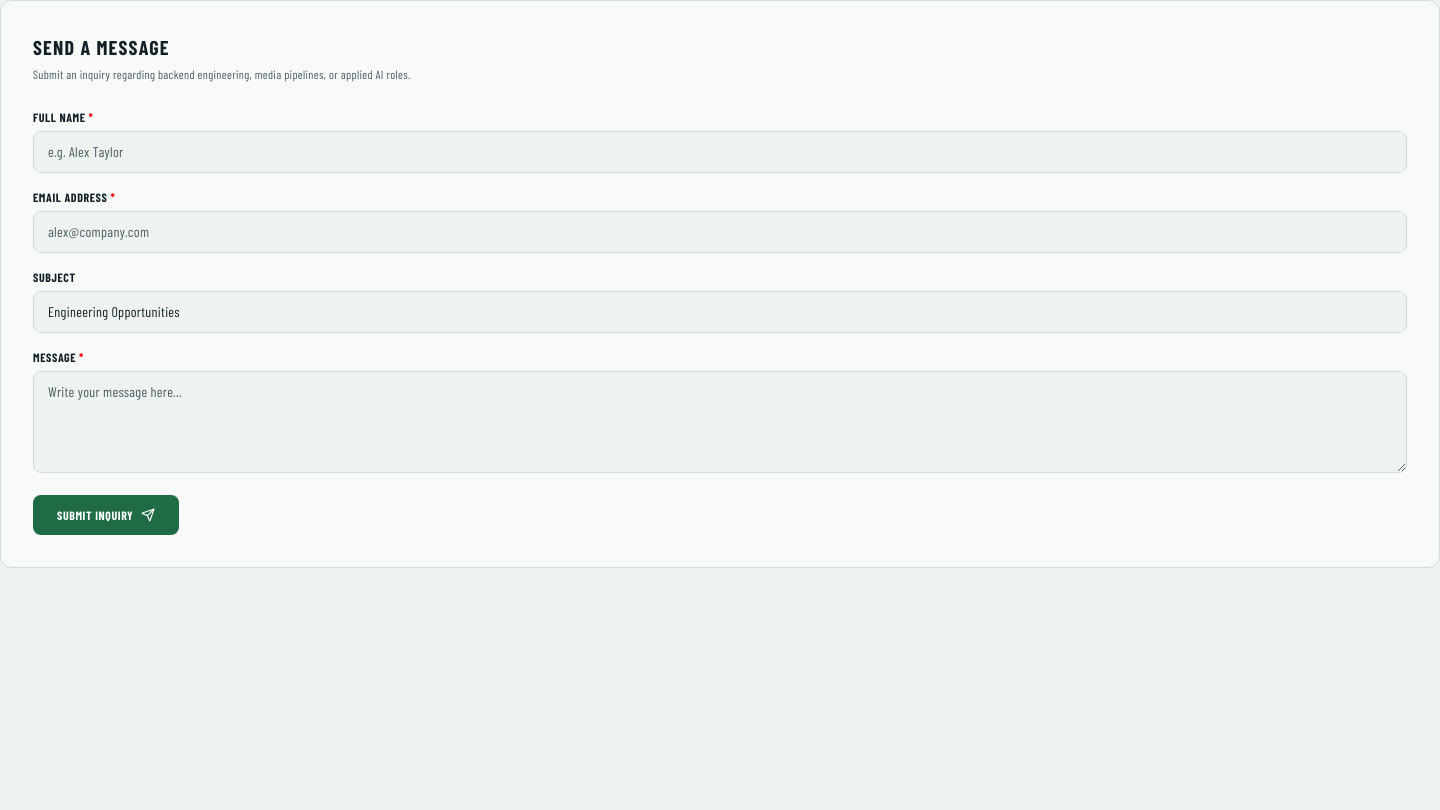
it: ContactForm Component › rejects invalid email address formats with accessible feedback
The width and height of the screenshot is (1440, 810).
Step 1. Type "Alex Taylor" into the field labelled "Full Name *" → (720, 152), box [33,130,1407,172]
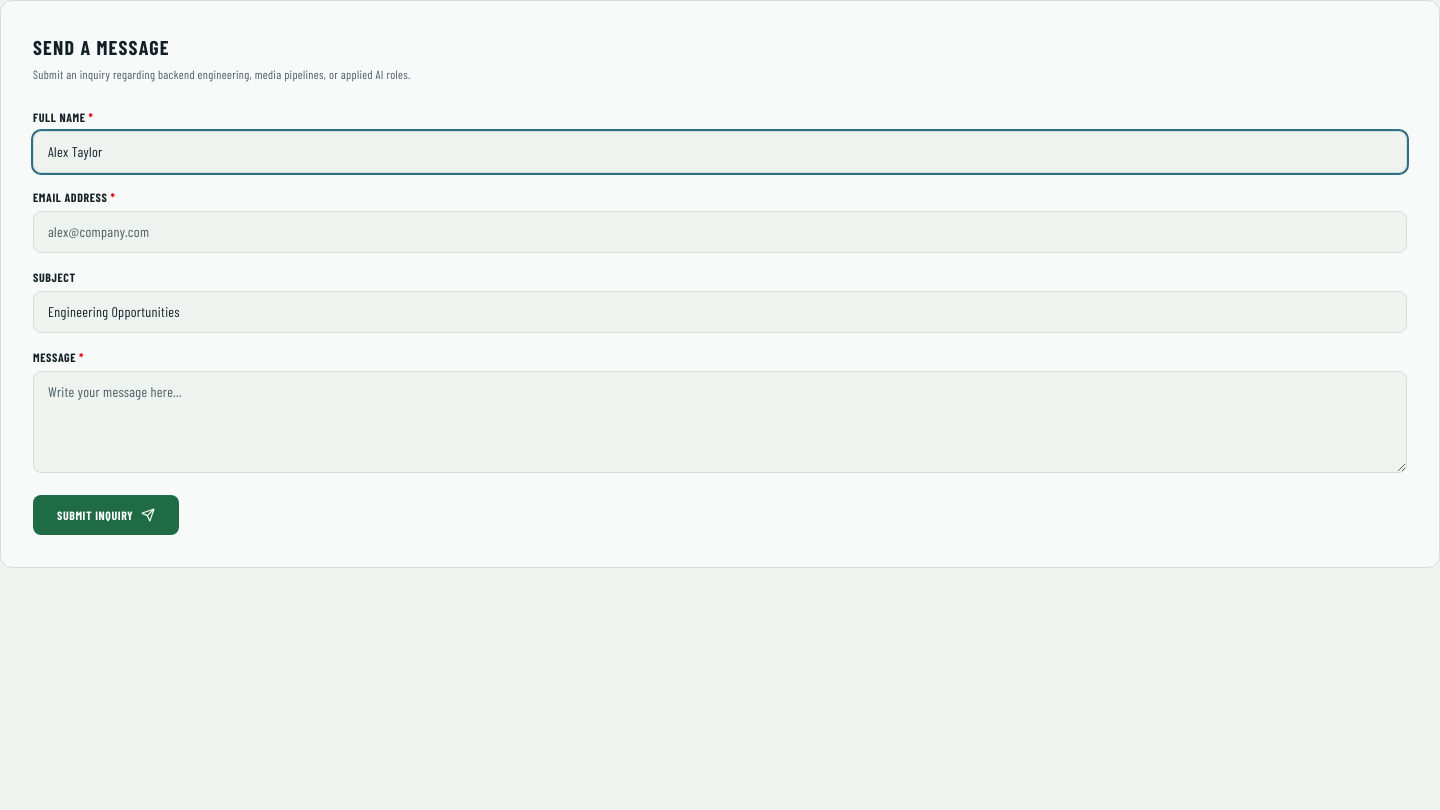
Step 2. Type "not-an-email" into the field labelled "Email Address *" → (720, 232), box [33,210,1407,252]
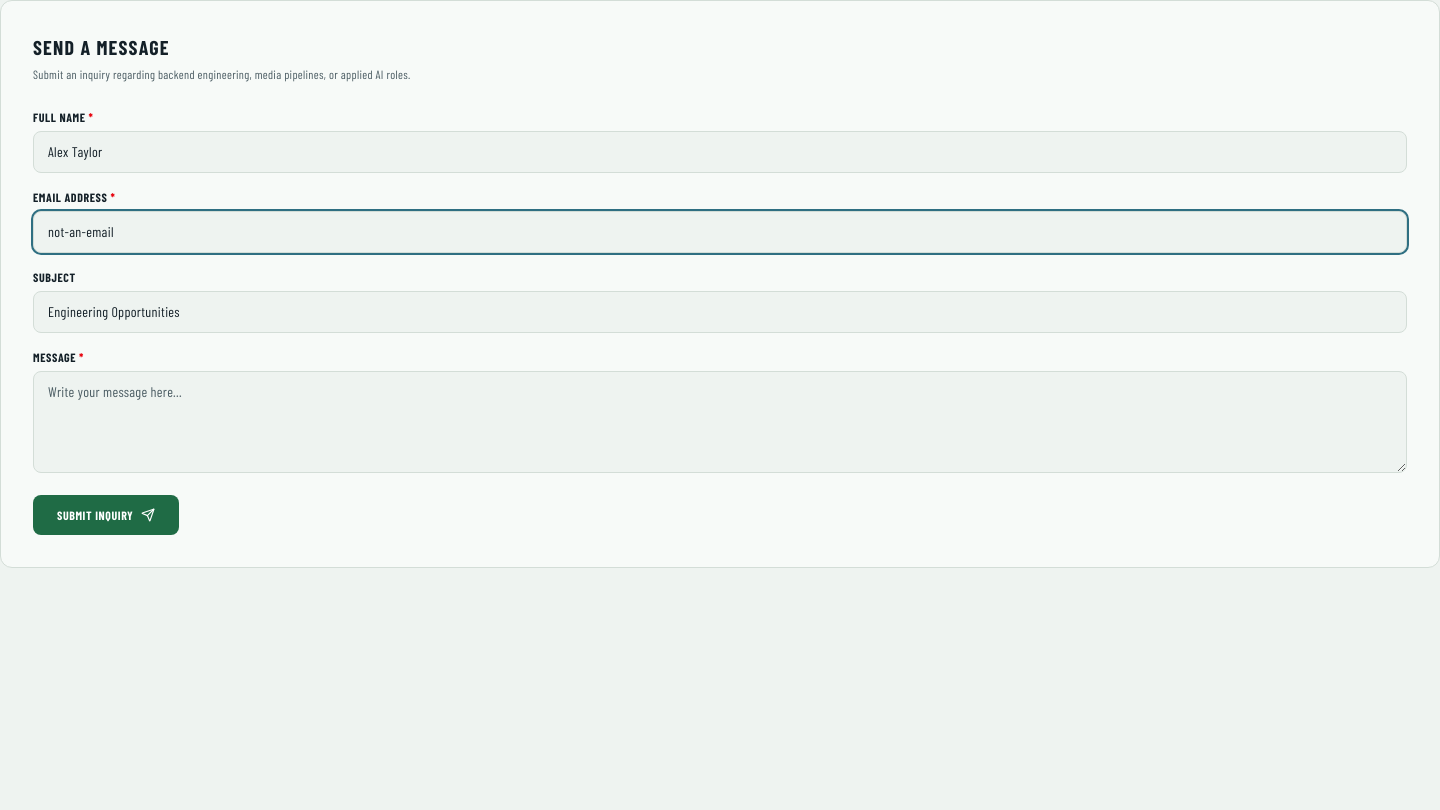
Step 3. Type "I am interested in discussing your video restoration pipeline." into the text box labelled "Message *" → (720, 422), box [33,370,1407,472]
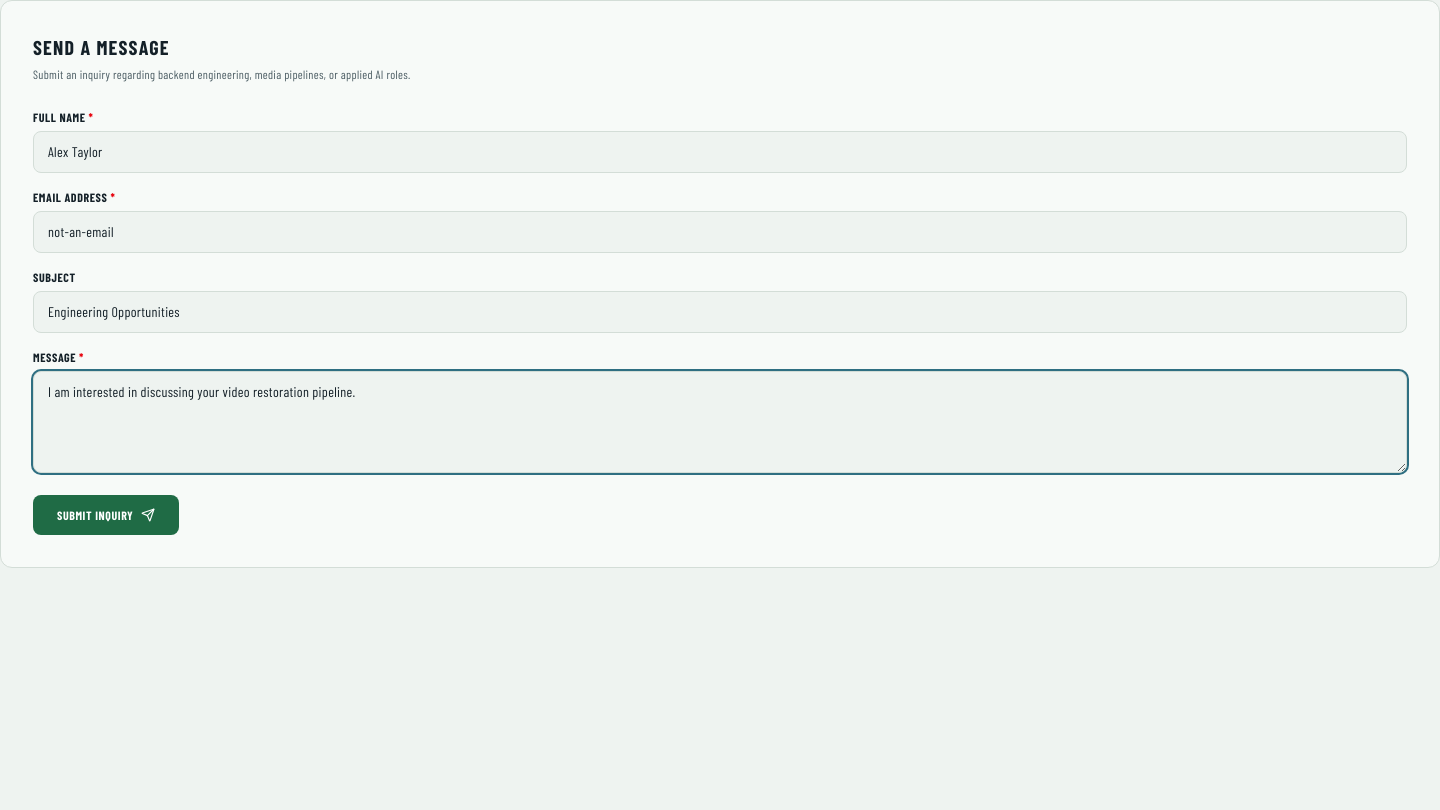
Step 4. Click the button "Submit Inquiry" → (106, 514), box [33,494,179,534]
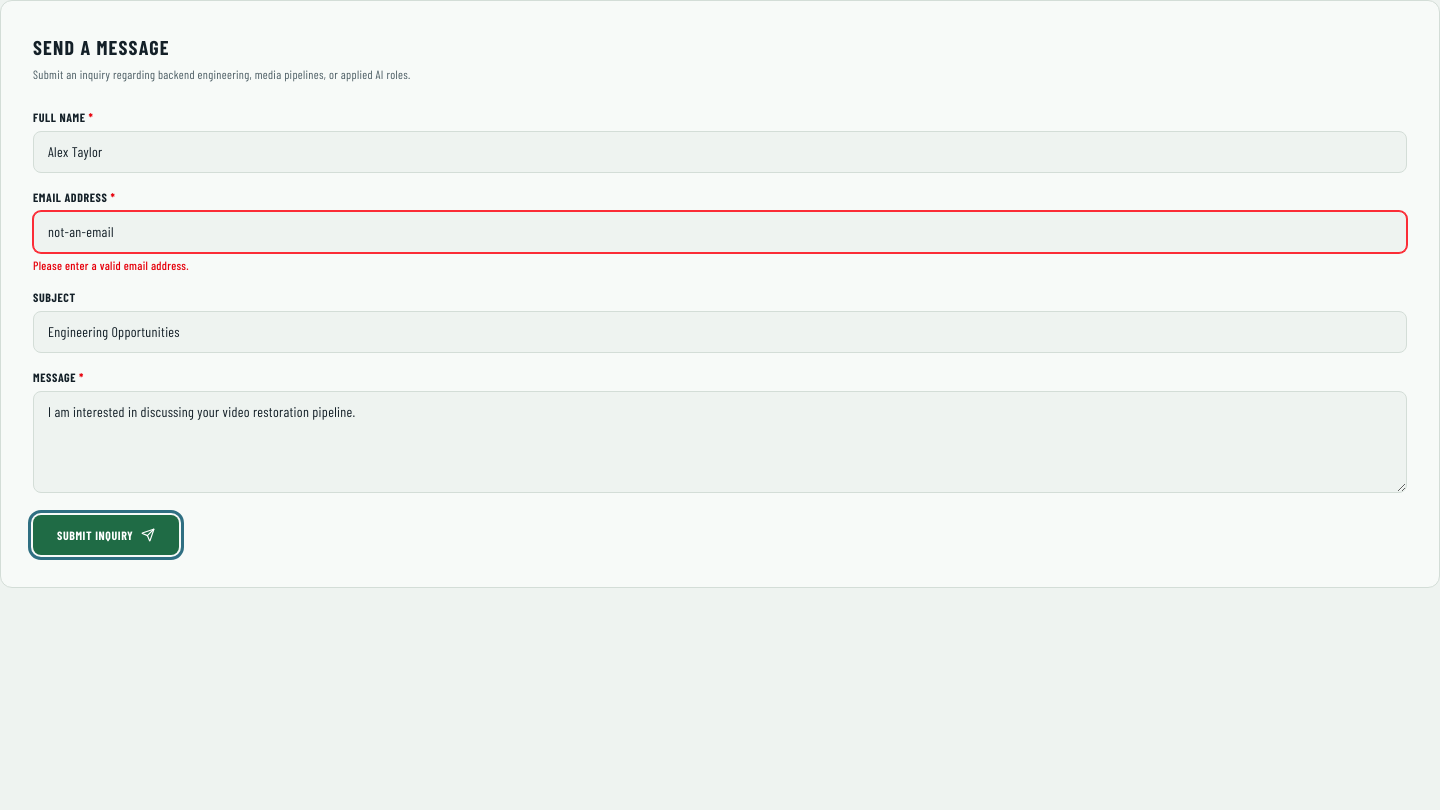
Result: the text "Please enter a valid email address." is shown at [33,258,189,272]
